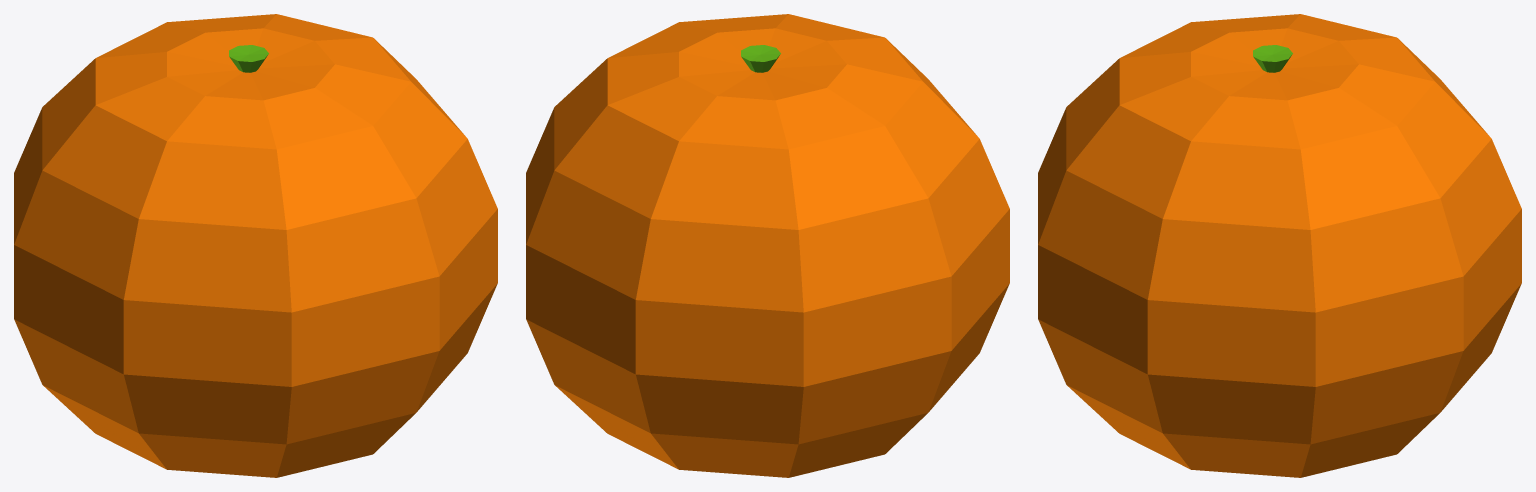
File: Orange.fbx
The picture shows the model from 3 angles, left to right: view 1: azimuth 30°, elevation 25°; view 2: azimuth 150°, elevation 25°; view 3: azimuth 270°, elevation 25°; orthographic projection.
Visible parts, largest first — view 1: Sphere; view 2: Sphere; view 3: Sphere.
Part boxes in pixels (x1,y1,x2,y2): Sphere: [14, 14, 497, 477]; Sphere: [526, 14, 1009, 477]; Sphere: [1038, 14, 1521, 477].
Size of the model in its own units: 194 by 167 by 191.
1 material, 1 textured.
